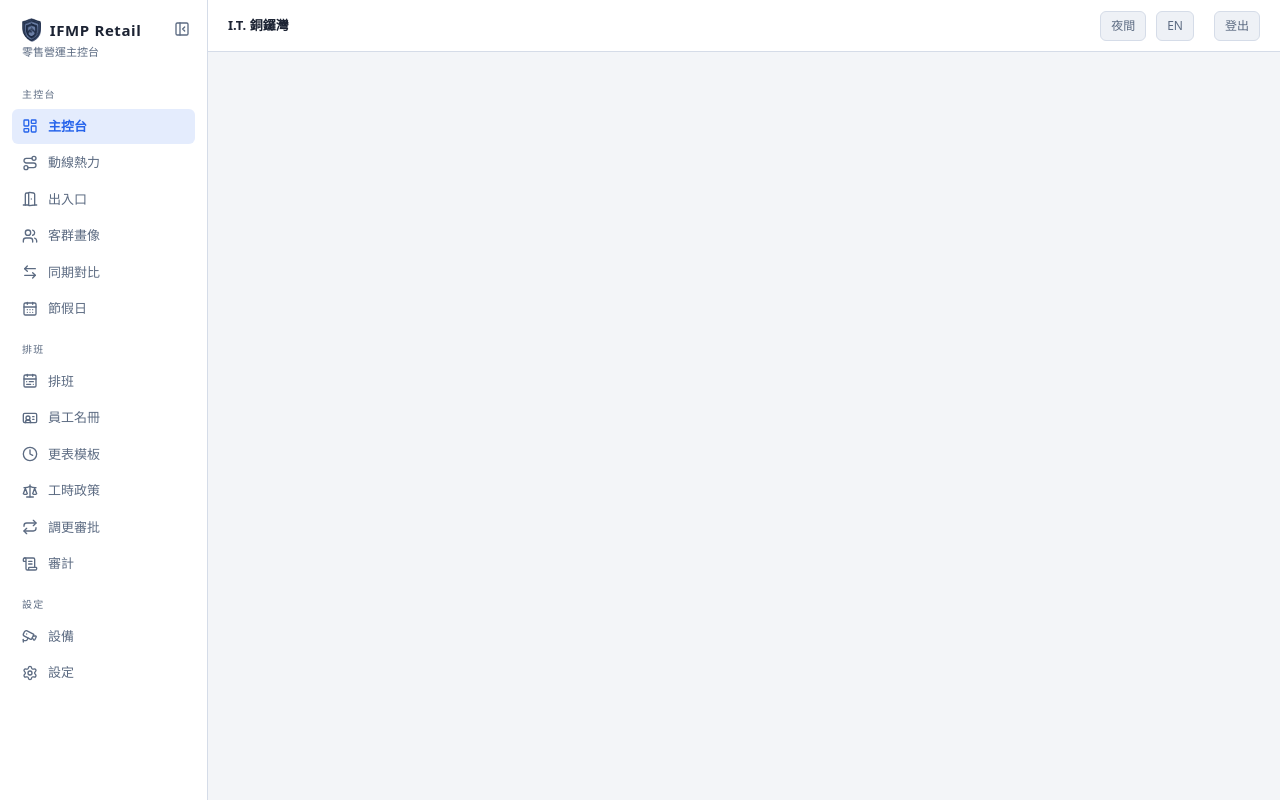
Test: top bar locale toggle switches site label to English
Expected: the text "I.T. 銅鑼灣" is shown, [228, 16, 289, 35]
What coordinates should you click on to do the following:
click the button with test id "flow-locale-toggle"
I would click on:
 (1175, 26)
Its box is [1156, 10, 1194, 40].
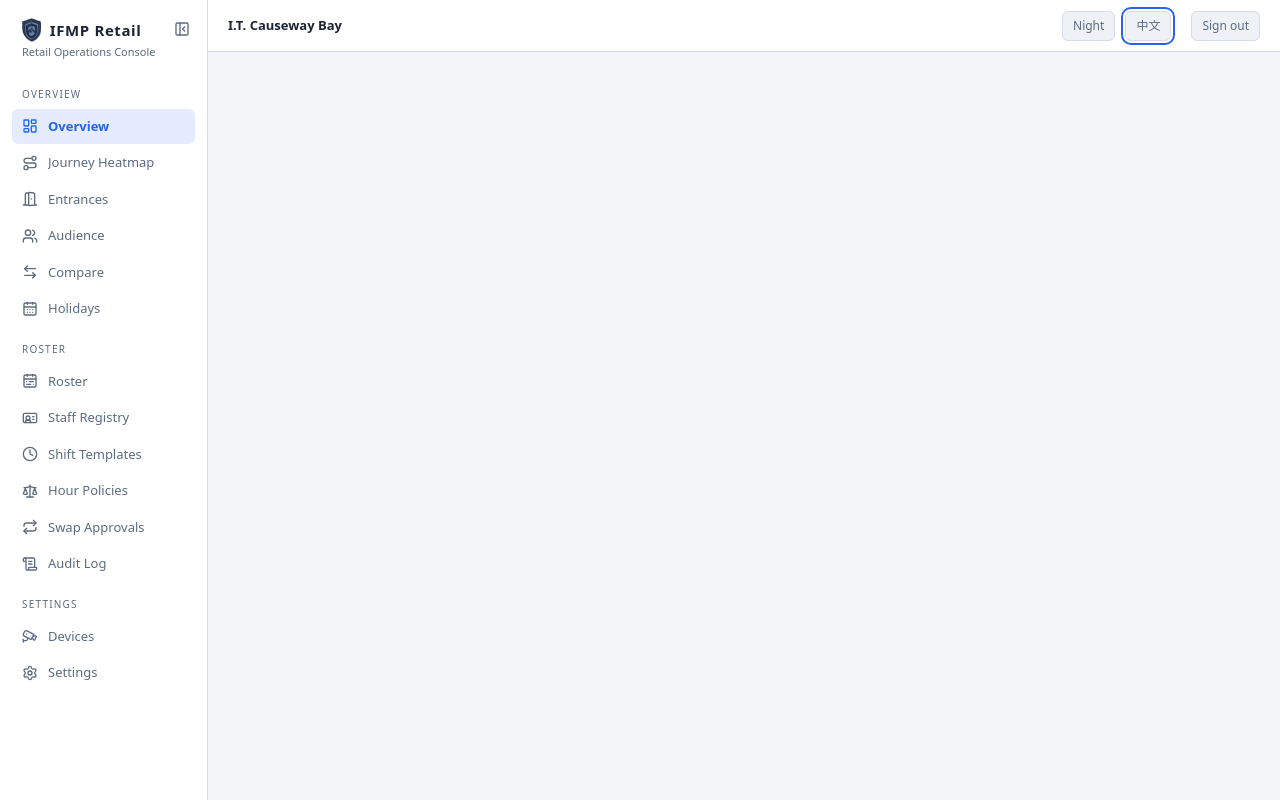
Now the text "I.T. Causeway Bay" is shown, box [228, 16, 342, 35]
